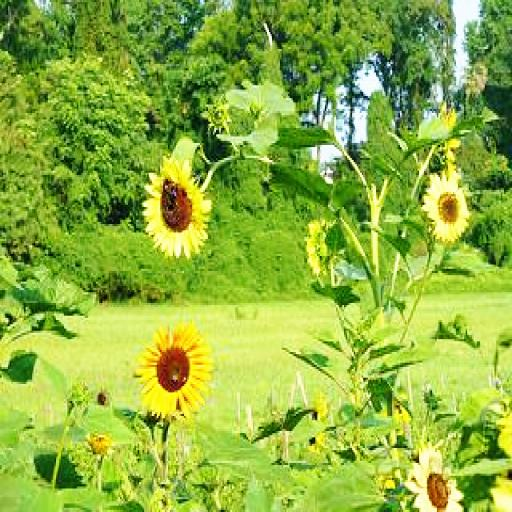sunflower: (139, 322, 210, 420), (146, 160, 208, 256), (407, 443, 462, 512), (422, 175, 469, 243)
